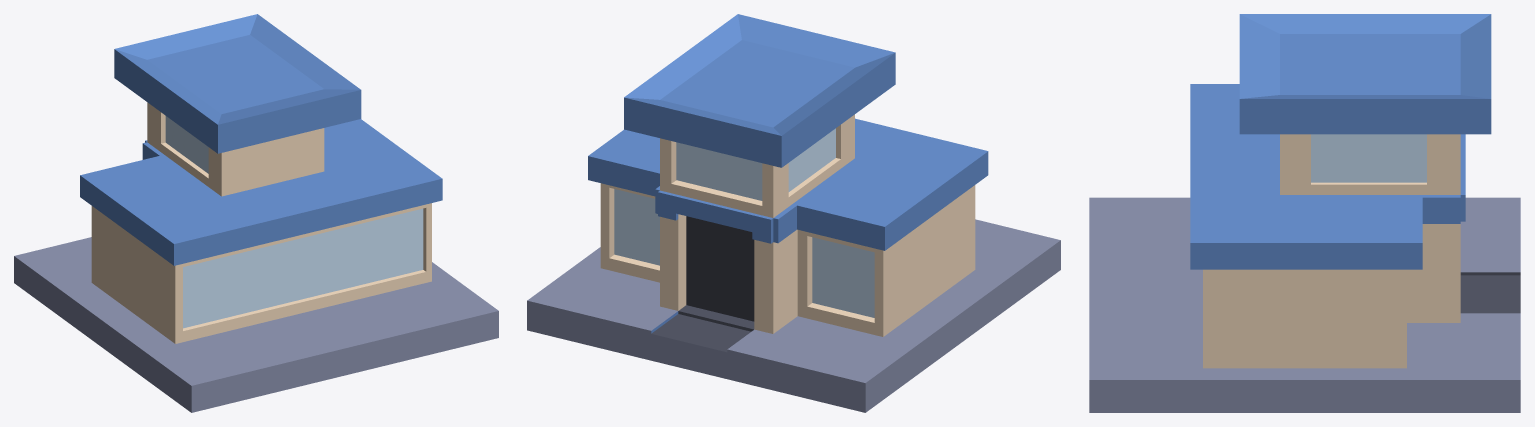
File: police.fbx
3 views of the same model, side by side, from view 1: azimuth 30°, elevation 25°; view 2: azimuth 150°, elevation 25°; view 3: azimuth 270°, elevation 25° (orthographic). The views are drawn at different scales.
Visible parts, largest first — view 1: LOD0; view 2: LOD0; view 3: LOD0.
Part boxes in pixels (left/top/right/bottom): LOD0: left=14, top=14, right=498, bottom=412; LOD0: left=527, top=14, right=1060, bottom=412; LOD0: left=1089, top=14, right=1520, bottom=412.
Size of what is drawn, in the model's own units: 200 by 200 by 138.
1 material, 1 textured.
